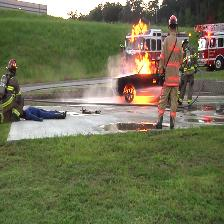fire: (133, 19, 156, 78)
